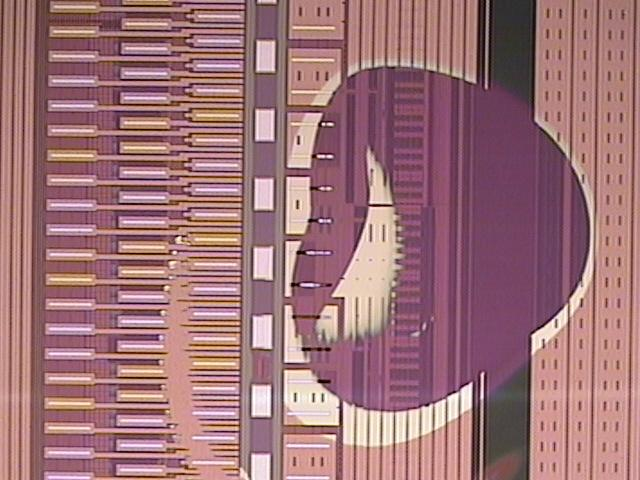BLOCK ETCH: (154, 57, 604, 480)
